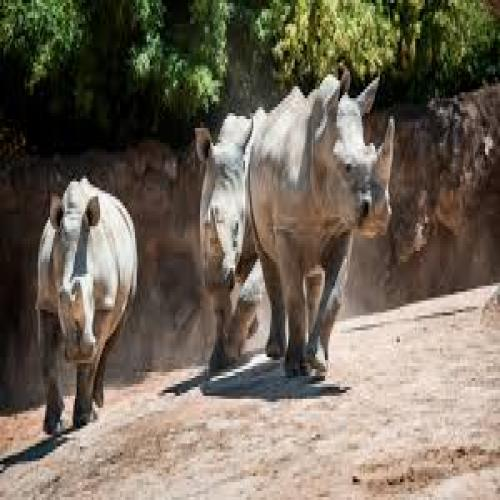rhino-endangered: (246, 70, 394, 378), (34, 176, 138, 439), (194, 109, 264, 362)
